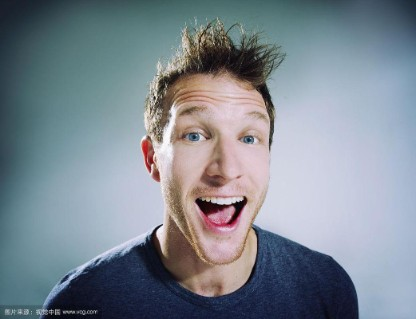张嘴: (194, 188, 246, 231)
